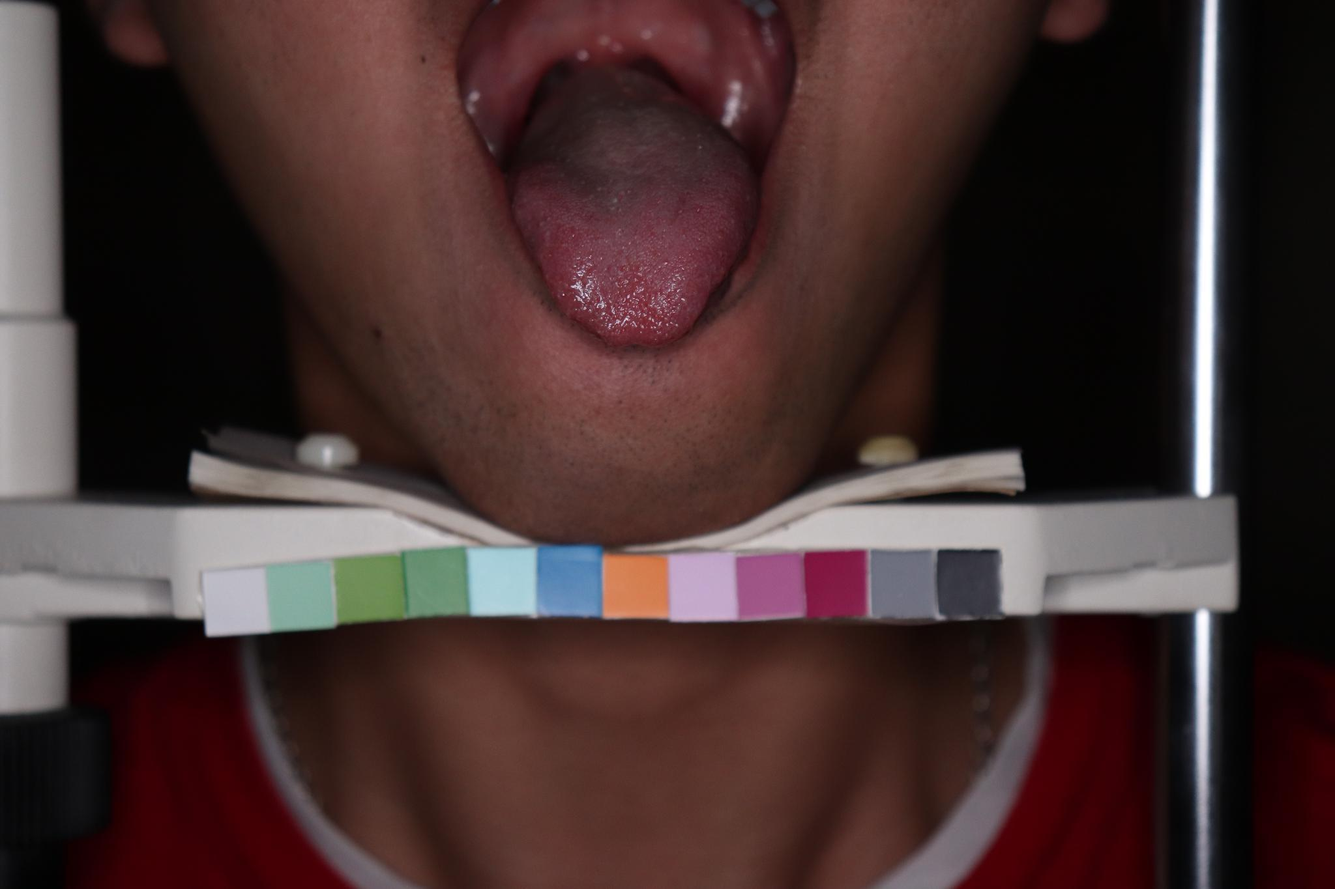hongshe: (510, 67, 759, 354)
huataishe: (550, 253, 709, 343)
